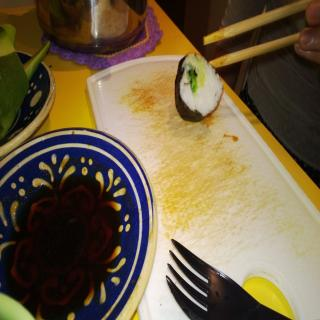Sushi: (175, 51, 224, 123)
